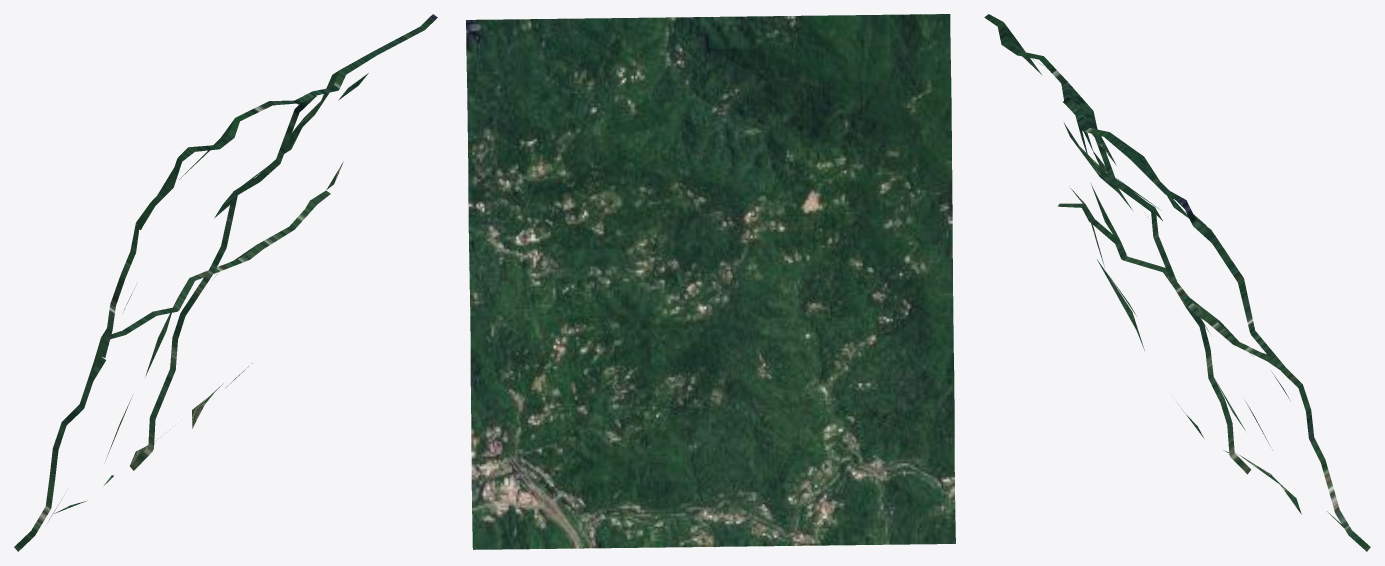
3 renders of one model, left to right at view 1: azimuth 30°, elevation 25°; view 2: azimuth 150°, elevation 25°; view 3: azimuth 270°, elevation 25°, orthographic. The views are drawn at different scales.
Size of the model in its own units: 4969 by 4653 by 3875.
1 material, 1 textured.
